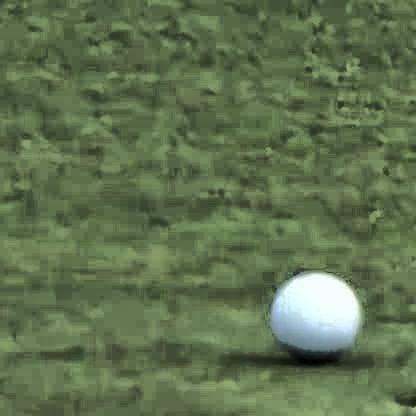golfball: (269, 264, 358, 360)
